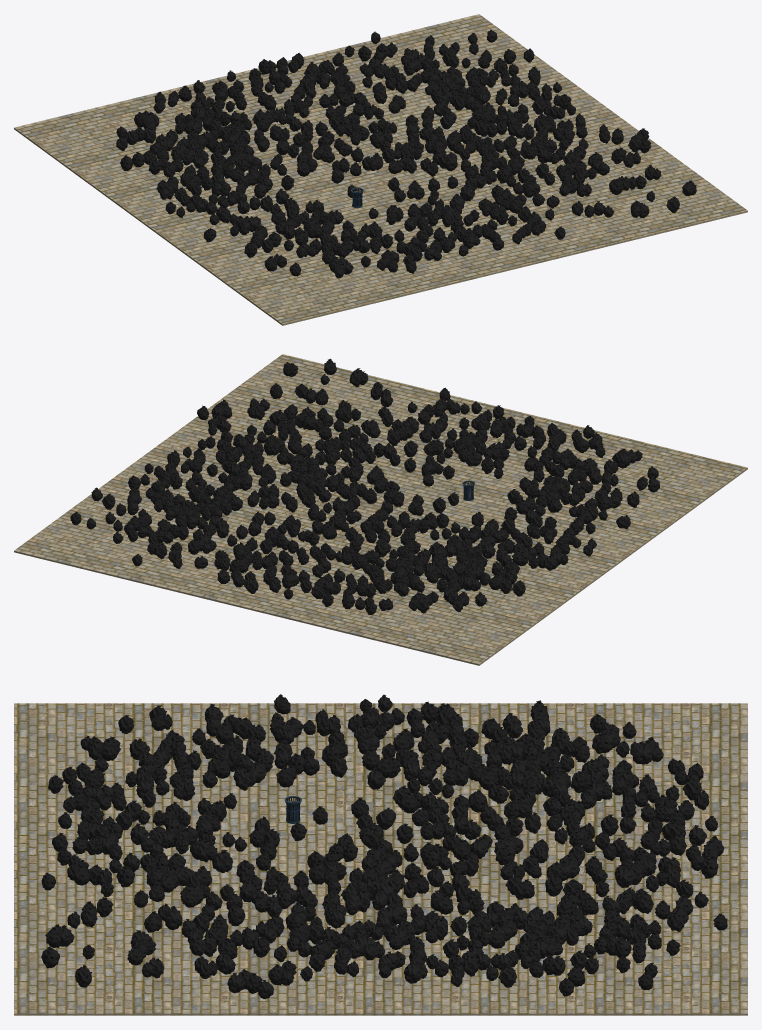
The model's file is devenv.glb.
3 renders of one model, top to bottom at view 1: azimuth 30°, elevation 25°; view 2: azimuth 150°, elevation 25°; view 3: azimuth 270°, elevation 25°, orthographic. The views are drawn at different scales.
Parts seen in each view (by area): view 1: Floor; view 2: Floor; view 3: Floor.
Boxes of the visible parts, left/top/right/bottom form: Floor: left=14, top=14, right=747, bottom=325; Floor: left=14, top=354, right=747, bottom=665; Floor: left=14, top=703, right=747, bottom=1015.
Size of the model in its own units: 60 by 2.54 by 60.
3 materials, 2 textured.
